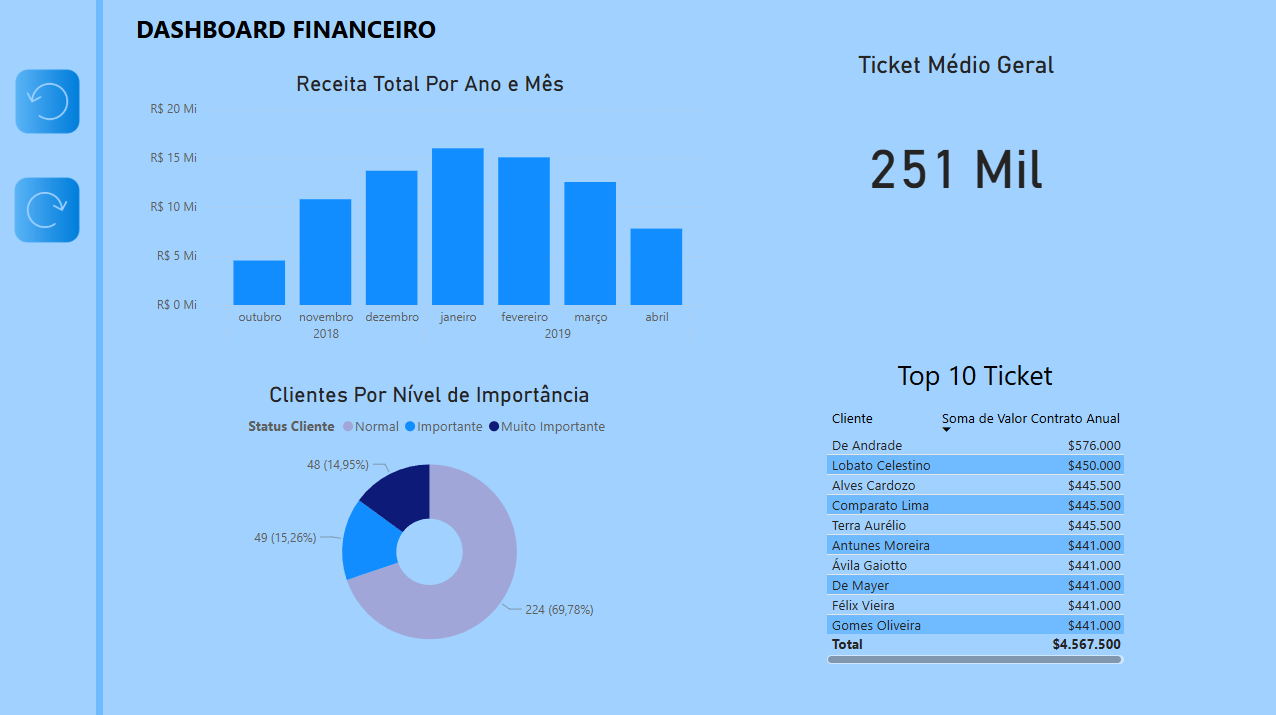

This screenshot's page, from the dashboard's own definition file:
{"tool":"powerbi","page":{"name":"COMERCIAL","canvas":[1280,720],"ordinal":1},"visuals":[{"type":"textbox","box":[132.8,7.9,313.2,43.6],"z":0},{"type":"image","box":[8.6,53.6,81.3,96.1],"z":0,"group":"g2"},{"type":"tableEx","fields":{"Values":["BaseClientes.Cliente","Sum(BaseClientes.Valor Contrato Anual)"]},"box":[823.1,403.6,307.8,266.3],"z":0,"group":"g1"},{"type":"clusteredColumnChart","title":"Receita Total Por Ano e Mês","fields":{"Category":["BaseClientes.Data Início Contrato.Variation.Hierarquia de datas.Ano","BaseClientes.Data Início Contrato.Variation.Hierarquia de datas.Mês"],"Y":["BaseClientes.Receita Total 2"]},"box":[146.6,72,570.7,285.4],"z":1000},{"type":"image","box":[7.9,168.5,82,83.3],"z":1000,"group":"g2"},{"type":"textbox","box":[822.7,352.1,307.9,51.6],"z":1000,"group":"g1"},{"type":"card","title":"Ticket Médio Geral","fields":{"Values":["BaseClientes.Ticket Médio"]},"box":[760.4,51.8,396,194],"z":2000},{"type":"donutChart","title":"Clientes Por Nível de Importância","fields":{"Category":["BaseClientes.Status Cliente"],"Y":["CountNonNull(BaseClientes.Cliente)"]},"box":[146.6,382.8,569.9,287.1],"z":3000},{"type":"group","id":"g1","title":"Grupo 2","box":[822.7,352.1,308.2,317.9],"z":4000},{"type":"shape","box":[98.3,0,7,720],"z":5000},{"type":"group","id":"g2","title":"Grupo 1","box":[7.9,53.6,82.5,198.4],"z":6000}]}

Visuals, with their boxes in screenshot pixels (x1, y1, x2, y2), scaled from the page's 1280x720 canvas onto the 1276x715 screenshot:
textbox: rect(132, 8, 445, 51)
image: rect(9, 53, 90, 149)
tableEx - BaseClientes.Cliente x Sum(BaseClientes.Valor Contrato Anual): rect(821, 401, 1127, 665)
"Receita Total Por Ano e Mês" clusteredColumnChart: rect(146, 72, 715, 355)
image: rect(8, 167, 90, 250)
textbox: rect(820, 350, 1127, 401)
"Ticket Médio Geral" card: rect(758, 51, 1153, 244)
"Clientes Por Nível de Importância" donutChart: rect(146, 380, 714, 665)
"Grupo 2" group: rect(820, 350, 1127, 665)
shape: rect(98, 0, 105, 714)
"Grupo 1" group: rect(8, 53, 90, 250)
